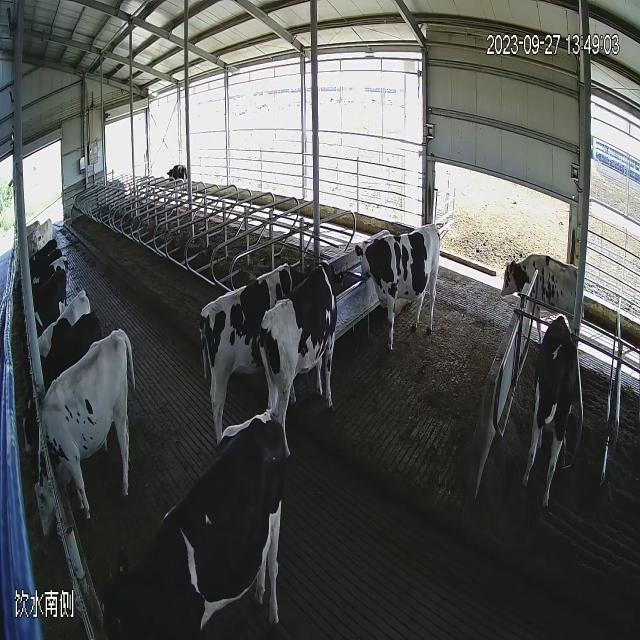drinking: (196, 262, 316, 443), (351, 204, 458, 370), (261, 260, 345, 441)
feeding: (29, 320, 140, 546), (17, 307, 108, 471), (15, 256, 72, 370)
standing: (90, 410, 296, 640), (514, 310, 592, 518), (488, 250, 596, 370), (162, 147, 196, 217)
